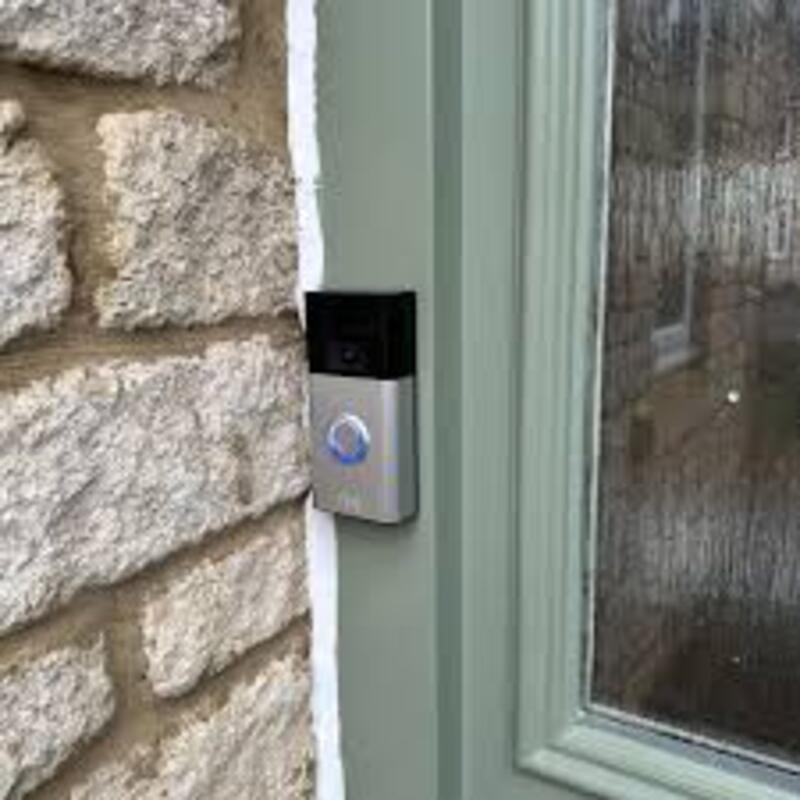doorbell: (303, 278, 426, 531)
